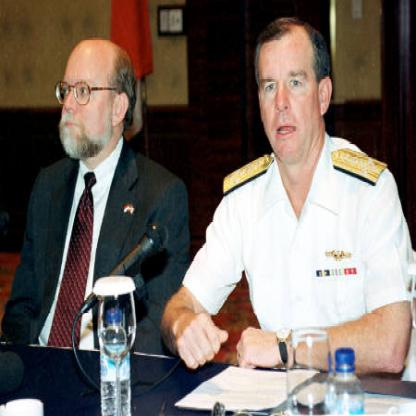face: (257, 20, 322, 163), (57, 40, 117, 165)
